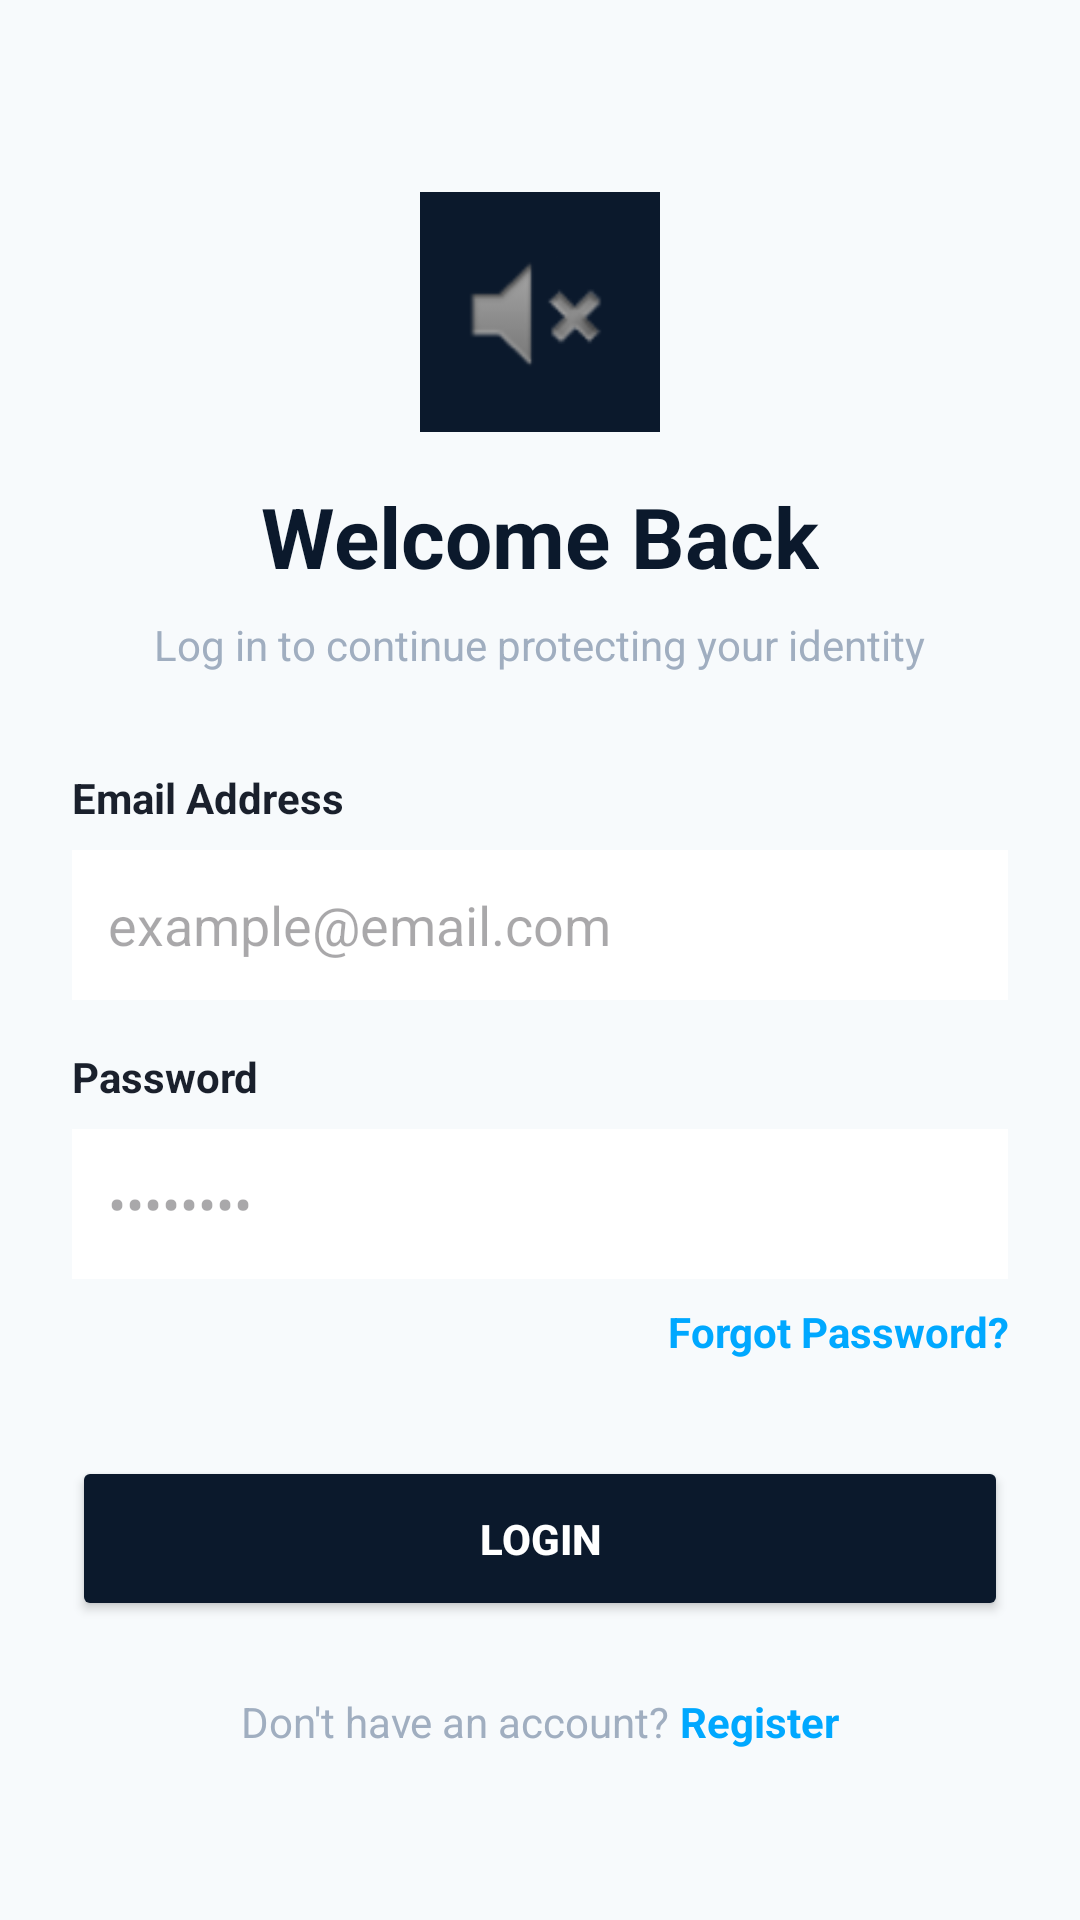

Locate icon controls on the screen. Image size 1080 × 1920, boxes as (x1, y1, x2, y2).
lock silent mode: (420, 192, 660, 432)
